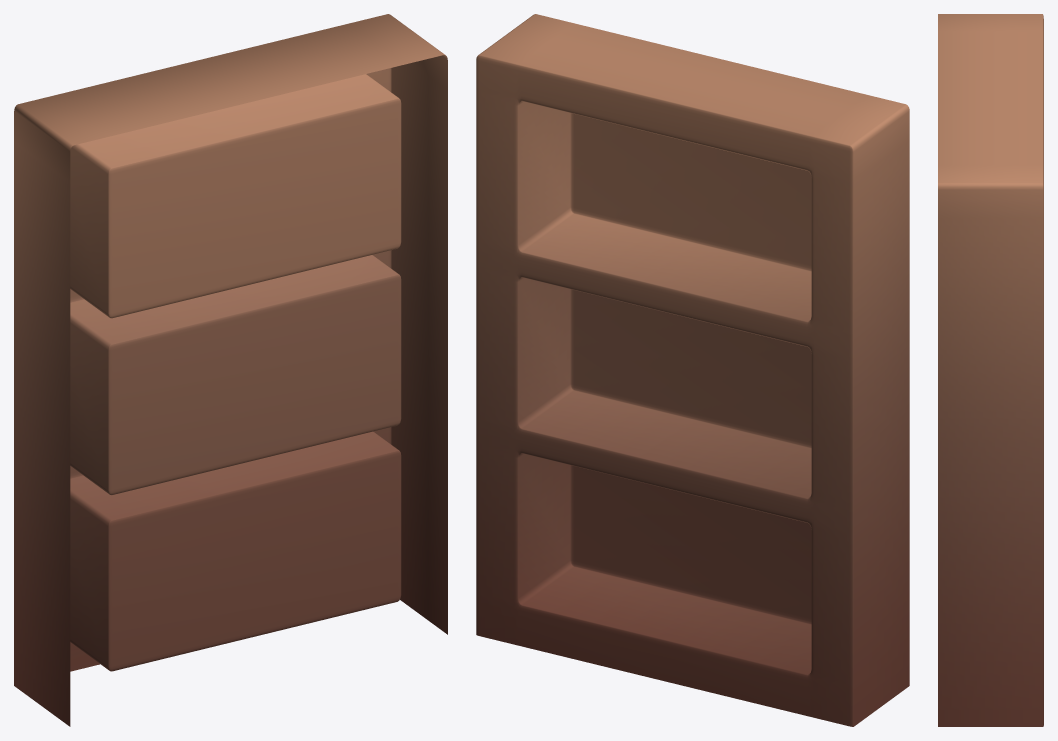
The model's file is mesh_shelf_001.fbx.
3 renders of one model, left to right at view 1: azimuth 30°, elevation 25°; view 2: azimuth 150°, elevation 25°; view 3: azimuth 270°, elevation 25°, orthographic. The views are drawn at different scales.
Parts seen in each view (by area): view 1: Cube; view 2: Cube; view 3: Cube.
Boxes of the visible parts, box(x1,y1,x2,y2) form: Cube: box(14, 14, 447, 726); Cube: box(476, 14, 909, 726); Cube: box(938, 14, 1043, 726).
Size of the model in its own units: 302 by 444 by 78.52.
